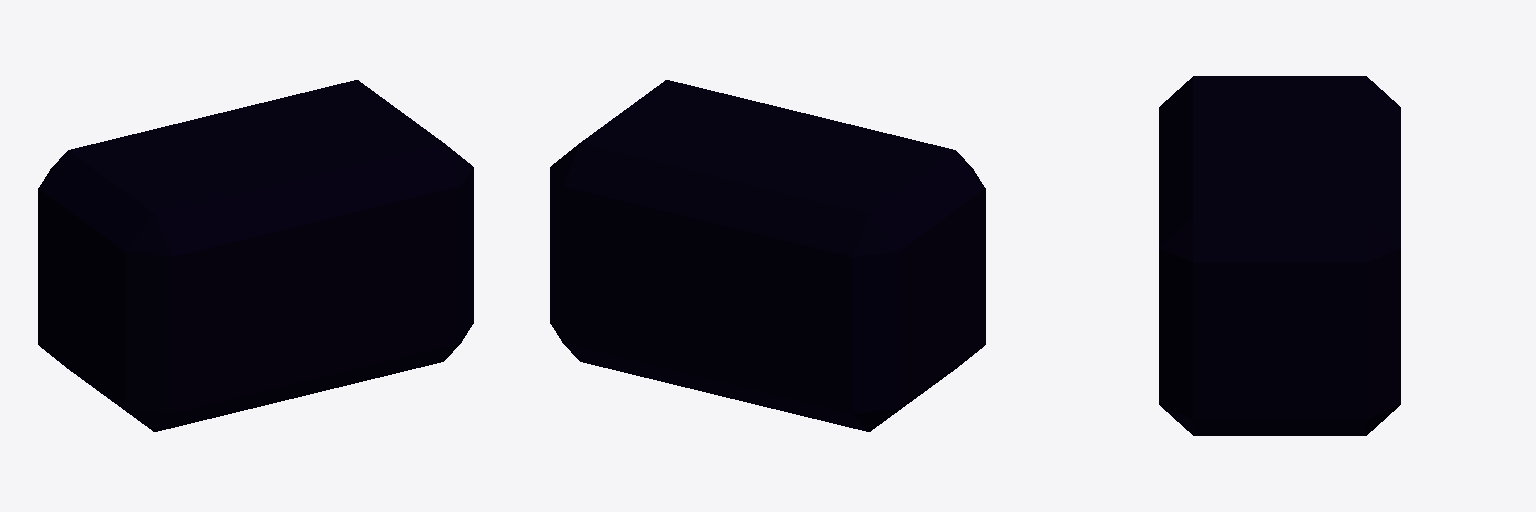
The model's file is arena_Collider.obj.
The picture shows the model from 3 angles: view 1: azimuth 30°, elevation 25°; view 2: azimuth 150°, elevation 25°; view 3: azimuth 270°, elevation 25°; orthographic projection.
Parts seen in each view (by area): view 1: Cube; view 2: Cube; view 3: Cube.
Part boxes in pixels (bbox=[...]): Cube: bbox=[38, 80, 473, 431]; Cube: bbox=[550, 80, 985, 431]; Cube: bbox=[1159, 76, 1400, 435].
Size of the model in its own units: 50 by 30 by 30.